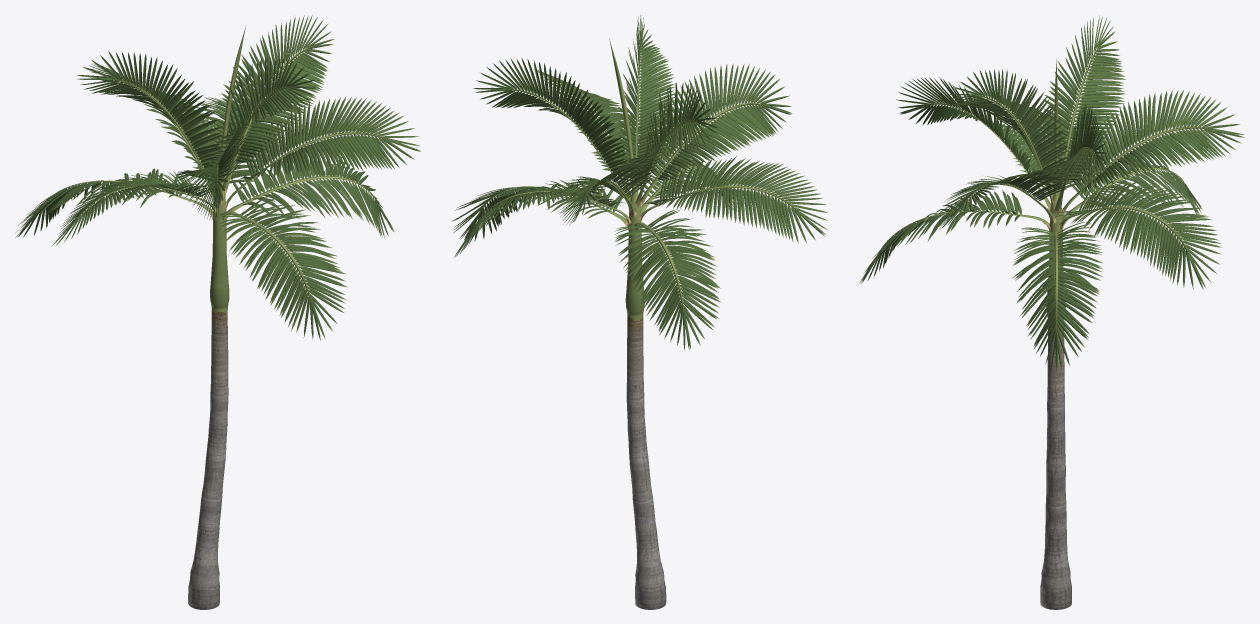
The model's file is palm_tree.glb.
The picture shows the model from 3 angles, left to right: view 1: azimuth 30°, elevation 25°; view 2: azimuth 150°, elevation 25°; view 3: azimuth 270°, elevation 25°; orthographic projection. The views are drawn at different scales.
Parts seen in each view (by area): view 1: Archontophoenix_alexandrae_HD; view 2: Archontophoenix_alexandrae_HD; view 3: Archontophoenix_alexandrae_HD.
Boxes of the visible parts, x1,y1,x2,y2 form: Archontophoenix_alexandrae_HD: (15, 15, 420, 609); Archontophoenix_alexandrae_HD: (452, 15, 828, 609); Archontophoenix_alexandrae_HD: (859, 15, 1244, 609).
Bounding box in the file's own units: 4.56 × 6.89 × 4.27.
7 materials, 7 textured.
